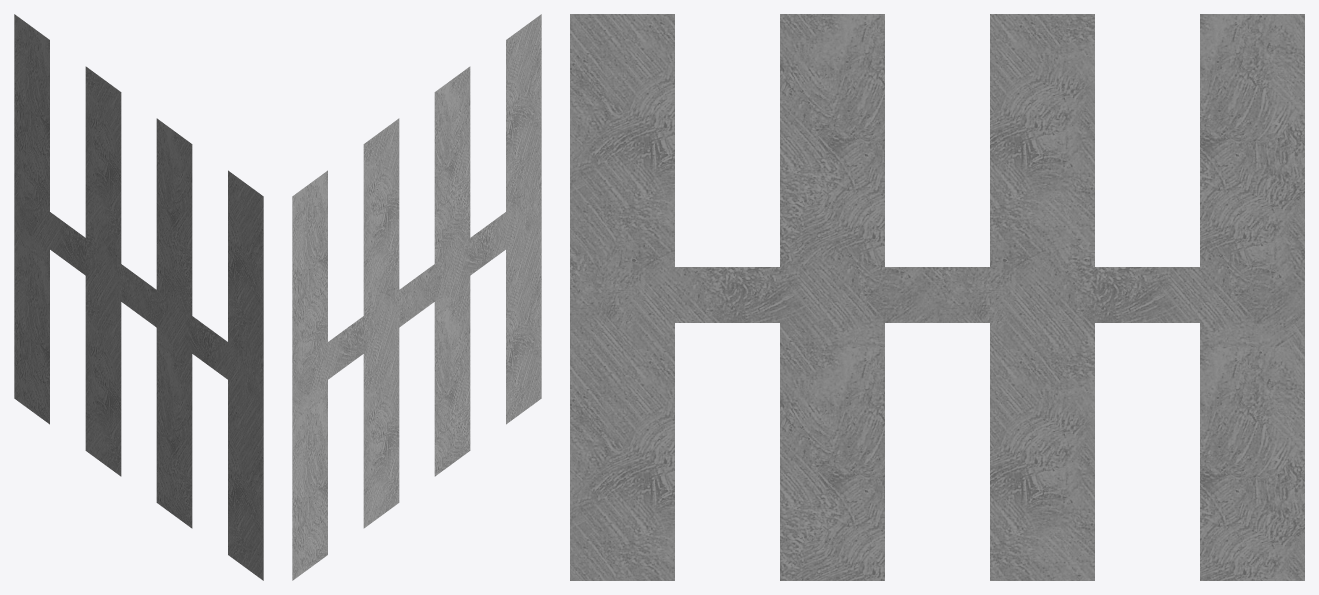
Rendered from fence.glb.
3 renders of one model, left to right at view 1: azimuth 30°, elevation 25°; view 2: azimuth 150°, elevation 25°; view 3: azimuth 270°, elevation 25°, orthographic. The views are drawn at different scales.
Visible parts, largest first — view 1: Cube; view 2: Cube; view 3: Cube.
Boxes of the visible parts, box(x1,y1,x2,y2) form: Cube: box(14, 14, 263, 580); Cube: box(292, 14, 541, 580); Cube: box(570, 14, 1304, 580).
Size of the model in its own units: 0 by 9.34 by 10.97.
Materials: 1 (1 with a texture image).
